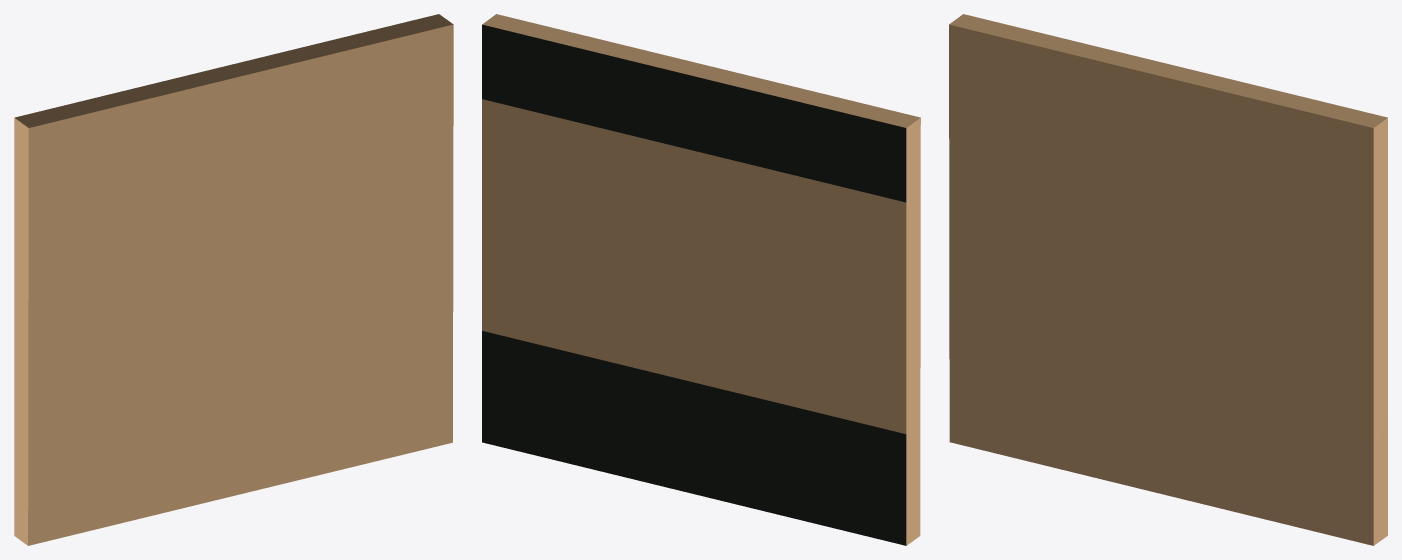
The model's file is Wall 3.fbx.
3 renders of one model, left to right at view 1: azimuth 30°, elevation 25°; view 2: azimuth 150°, elevation 25°; view 3: azimuth 330°, elevation 25°, orthographic.
Visible parts, largest first — view 1: Wall 3; view 2: Wall 3; view 3: Wall 3.
Boxes of the visible parts, box(x1,y1,x2,y2) form: Wall 3: box(14, 14, 453, 545); Wall 3: box(482, 14, 920, 545); Wall 3: box(949, 14, 1387, 545).
Size of the model in its own units: 0.3005 by 4.83 by 5.13.
